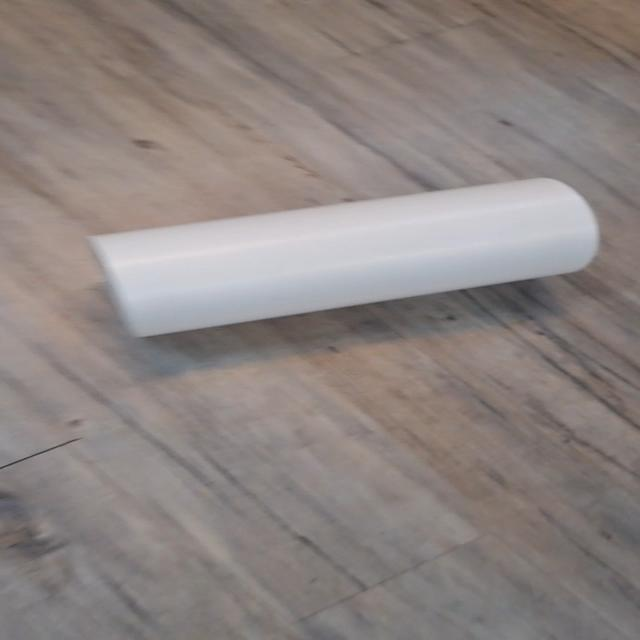CORAL: (82, 172, 606, 353)
